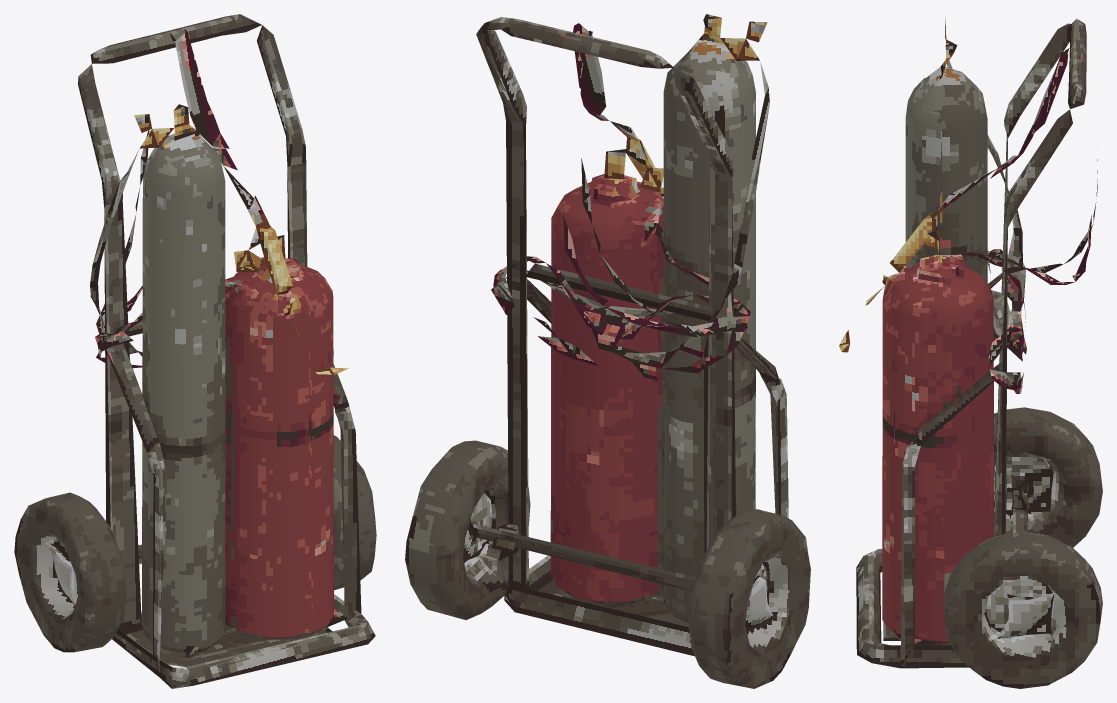
Rendered from portable_welding_cart.glb.
3 renders of one model, left to right at view 1: azimuth 30°, elevation 25°; view 2: azimuth 150°, elevation 25°; view 3: azimuth 270°, elevation 25°, orthographic. The views are drawn at different scales.
Visible parts, largest first — view 1: mesh; view 2: mesh; view 3: mesh.
Boxes of the visible parts, <box> form: mesh: <box>14,14,376,688</box>; mesh: <box>405,14,810,688</box>; mesh: <box>839,17,1102,688</box>.
Size of the model in its own units: 0.8473 by 1.56 by 0.6553.
Materials: 1 (1 with a texture image).
